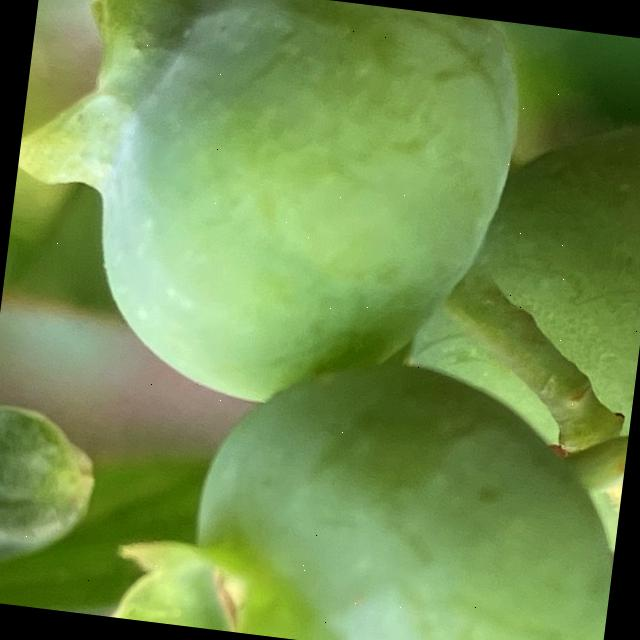Blueberries: (0, 0, 534, 433), (90, 329, 633, 640)
